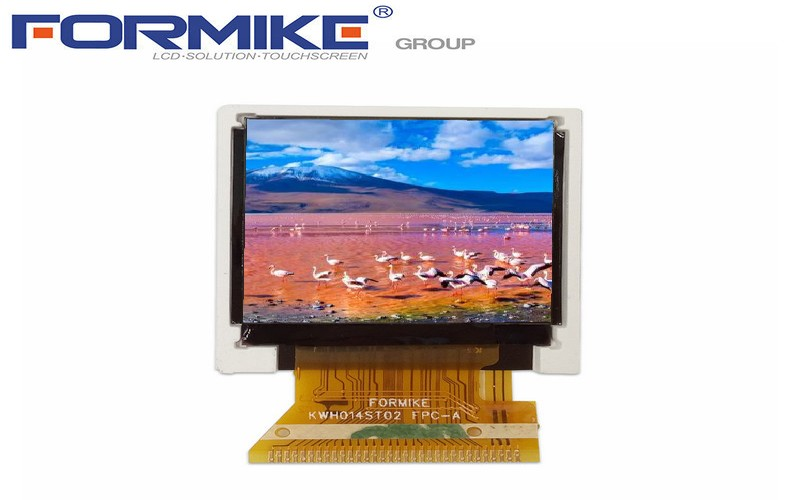LCD: (207, 94, 570, 368)
